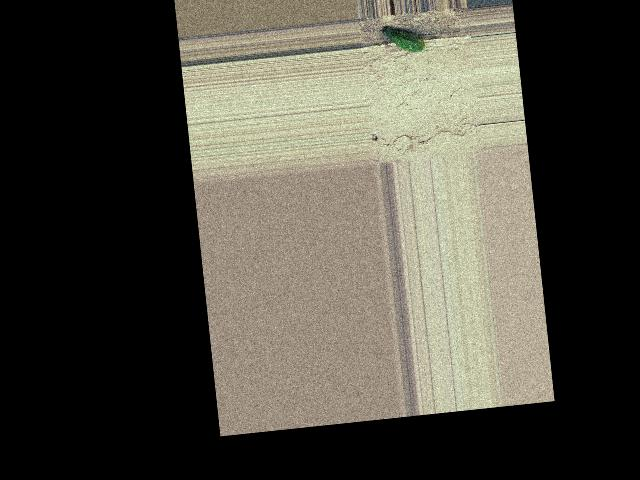cucumber: (382, 23, 425, 55)
